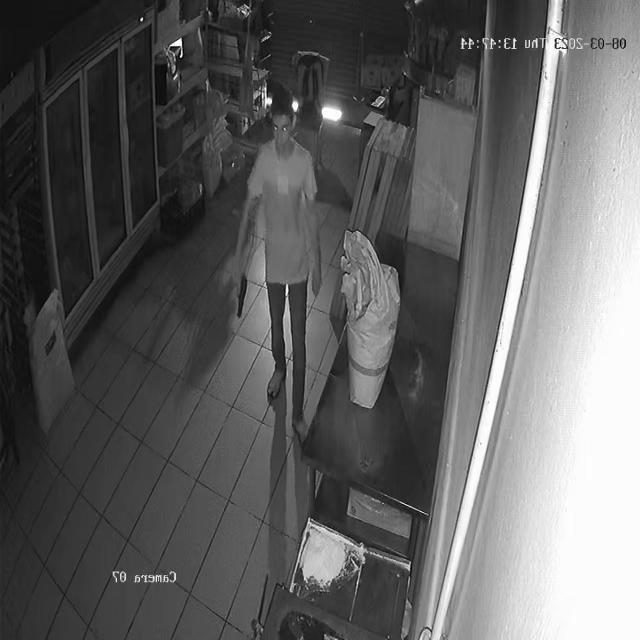Gun: (227, 272, 260, 326)
